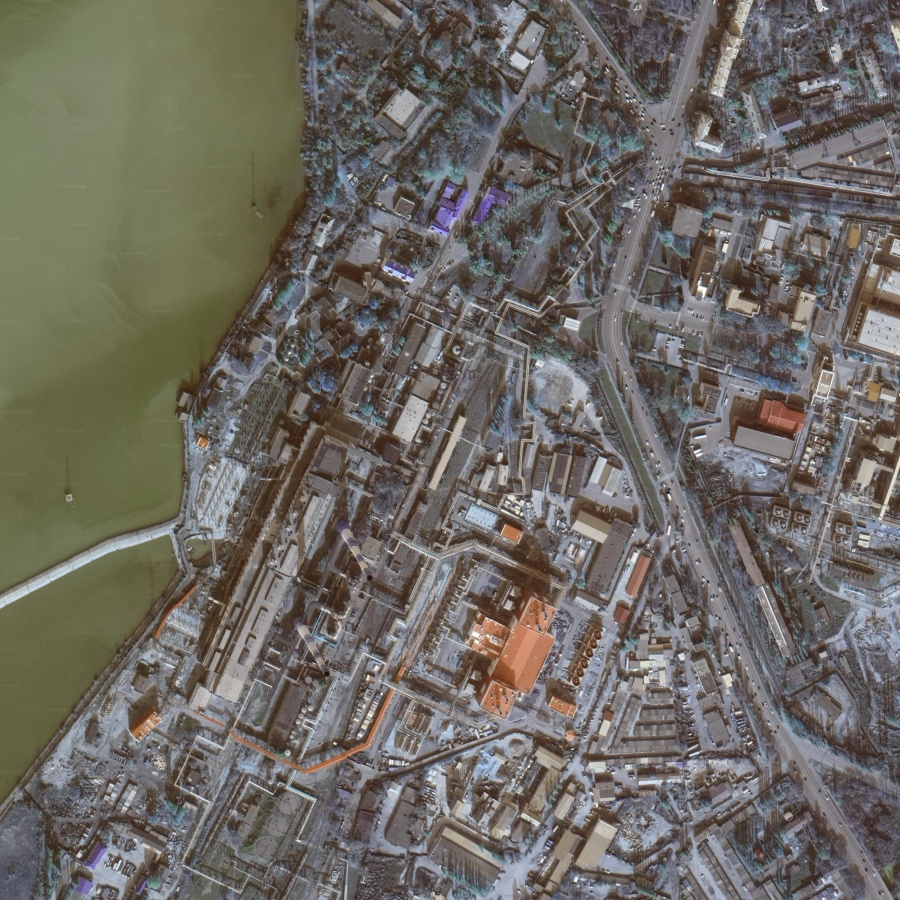PowerPlant: (160, 370, 434, 779)
